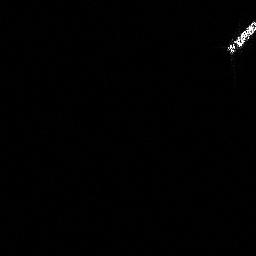ship: (223, 18, 256, 56)
